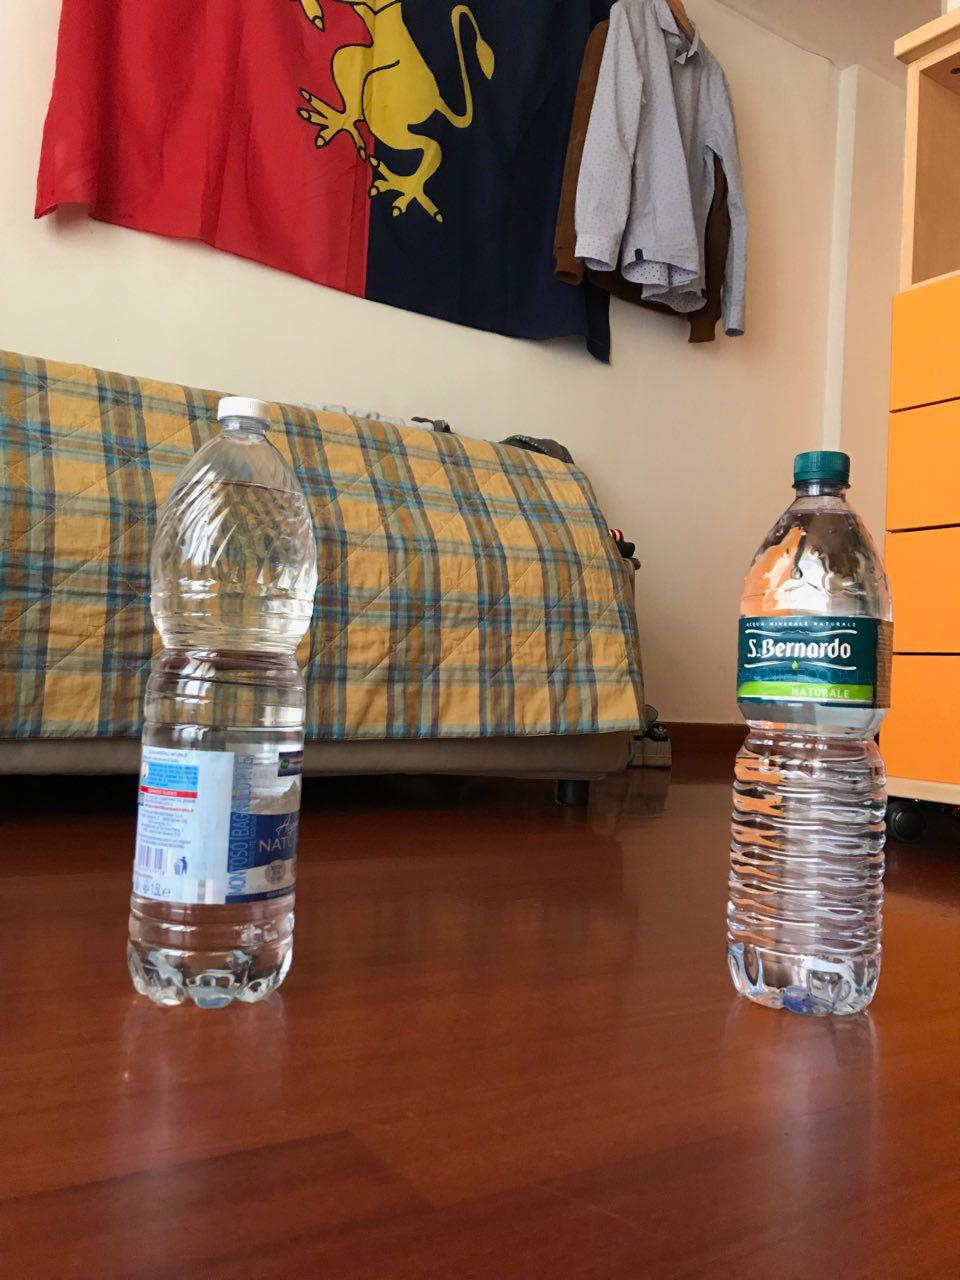san_bernardo: (725, 450, 894, 1018)
